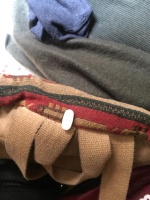Centik Buskopan: (61, 108, 74, 131)
